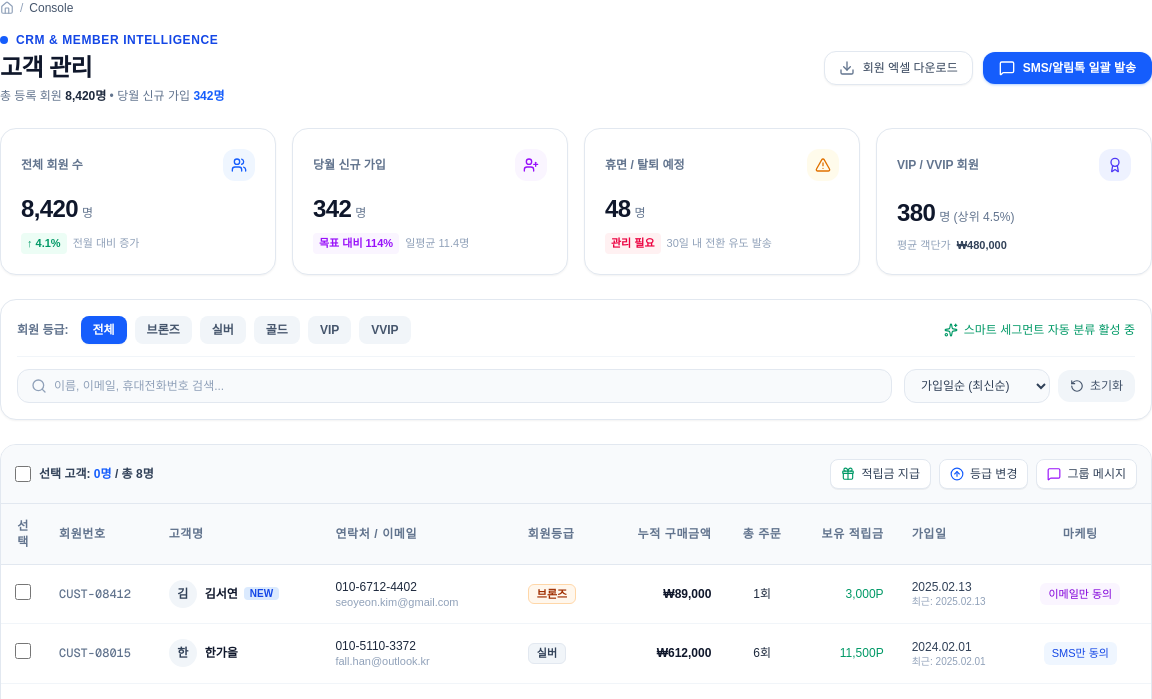
Scenario: CustomerView Presentation Component › should select/deselect all customers and handle batch actions
Toggle select all
Click the checkbox next to "선택 고객:": x=23, y=474 [15,466,31,482]
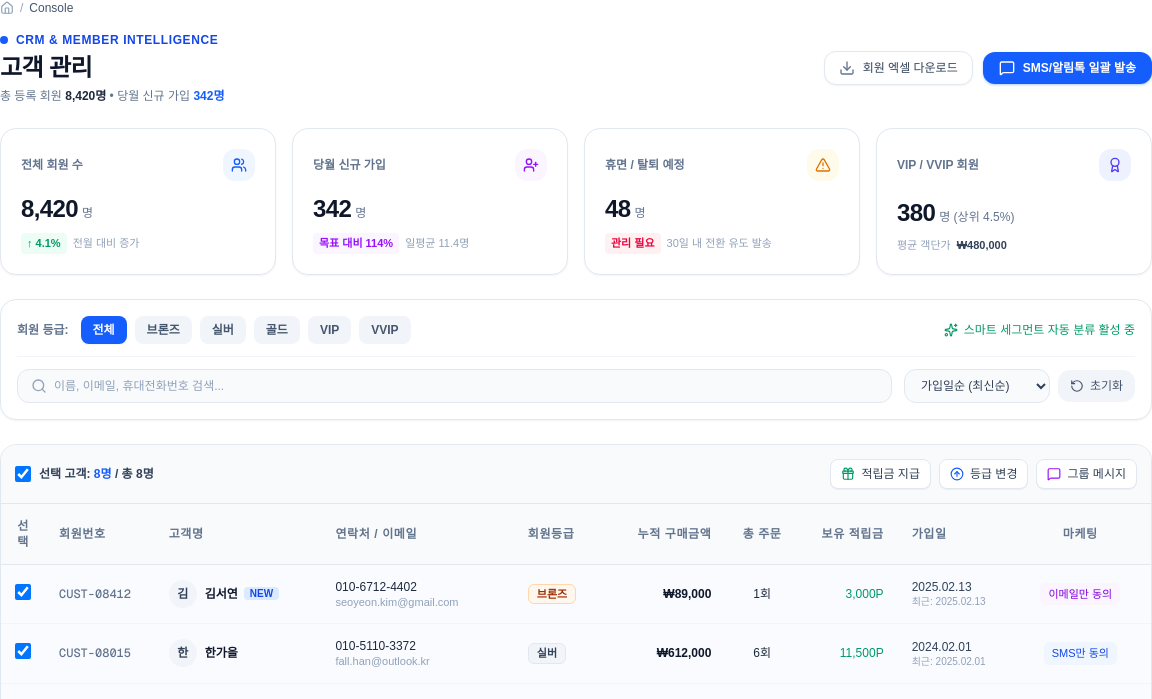
Expected: the element with test id "selected-count-label" shows "8명", [39,466,154,482]
Click batch action buttons
Click the button "적립금 지급": x=881, y=474 [830,458,931,488]
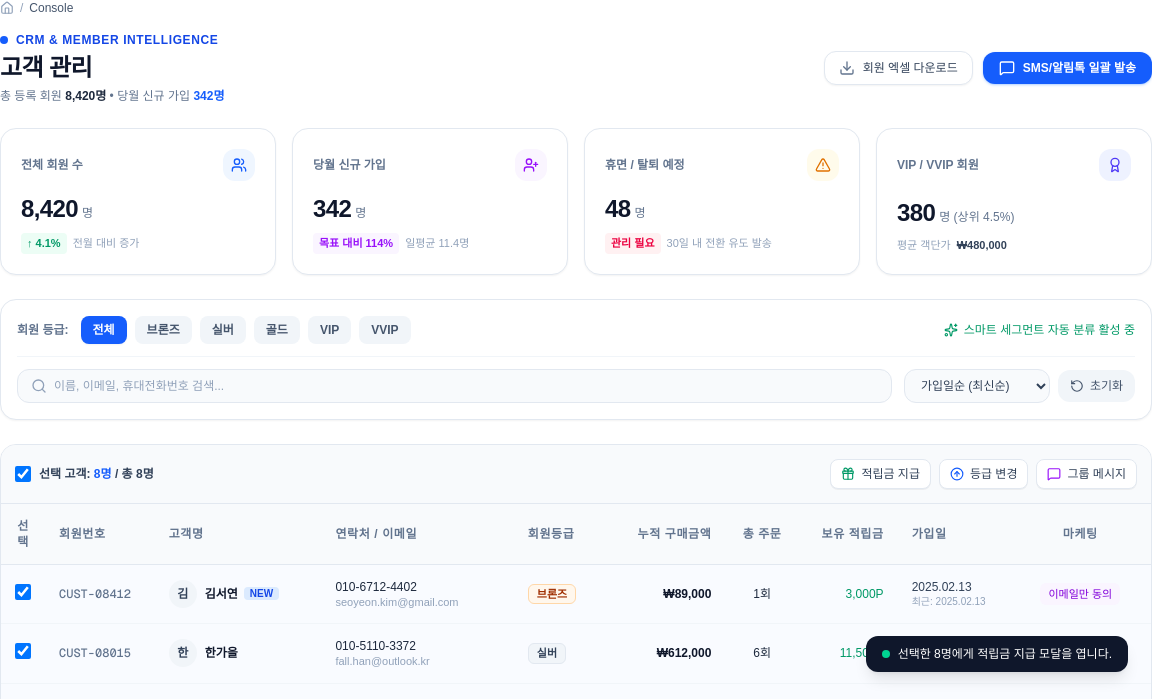
Expected: the text "선택한 8명에게 적립금 지급 모달을 엽니다." is shown, [898,646,1112,662]
Click the button "등급 변경": x=984, y=474 [939,458,1028,488]
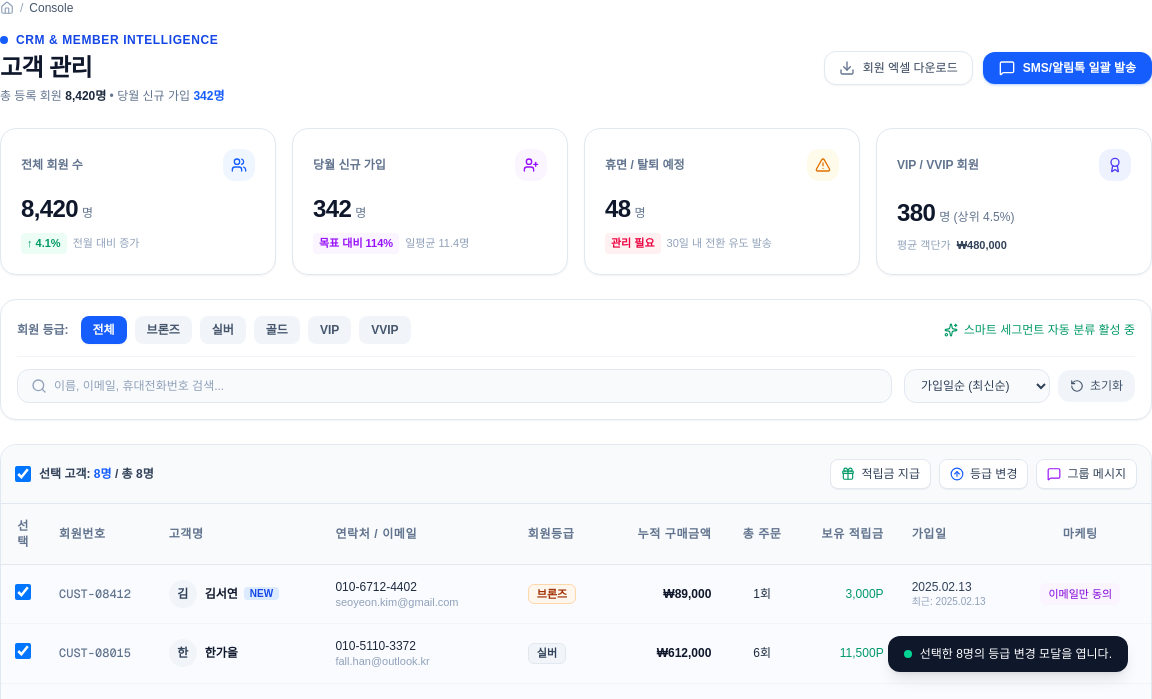
Expected: the text "선택한 8명의 등급 변경 모달을 엽니다." is shown, [920,646,1112,662]
Click the button "그룹 메시지": x=1087, y=474 [1036,458,1137,488]
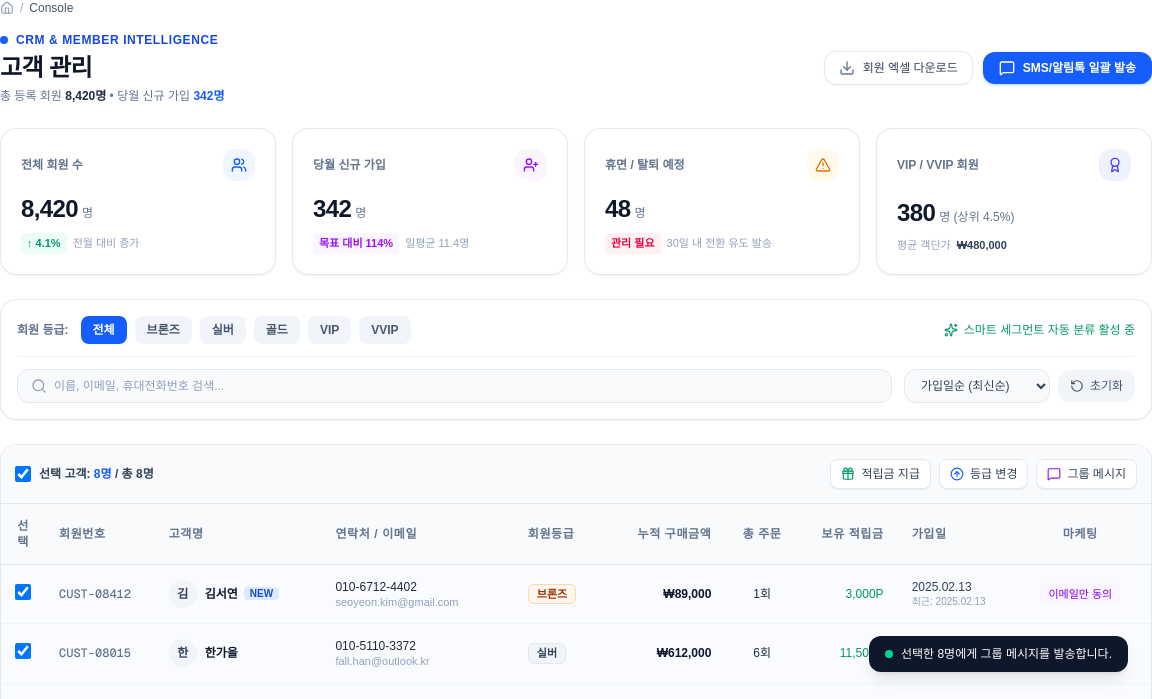
Expected: the text "선택한 8명에게 그룹 메시지를 발송합니다." is shown, [901,646,1112,662]
Click select all to deselect all (8 to 0)
Click the checkbox next to "선택 고객:": x=23, y=474 [15,466,31,482]
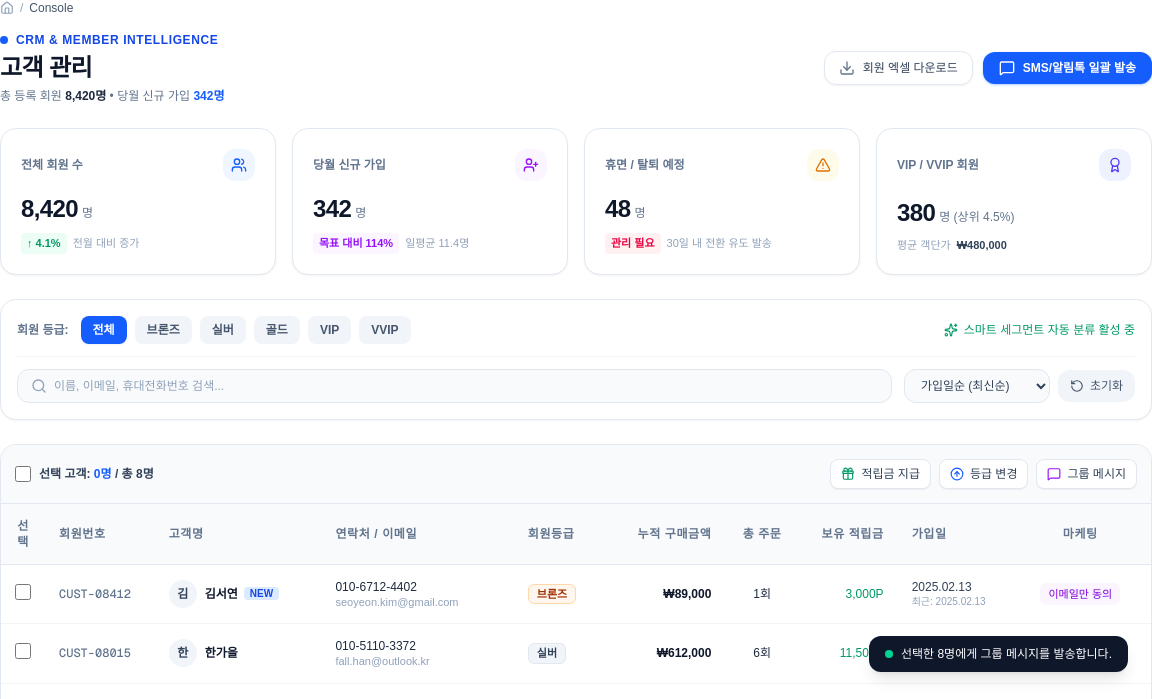
Expected: the element with test id "selected-count-label" shows "0명", [39,466,154,482]
Click the button "적립금 지급": x=881, y=474 [830,458,931,488]
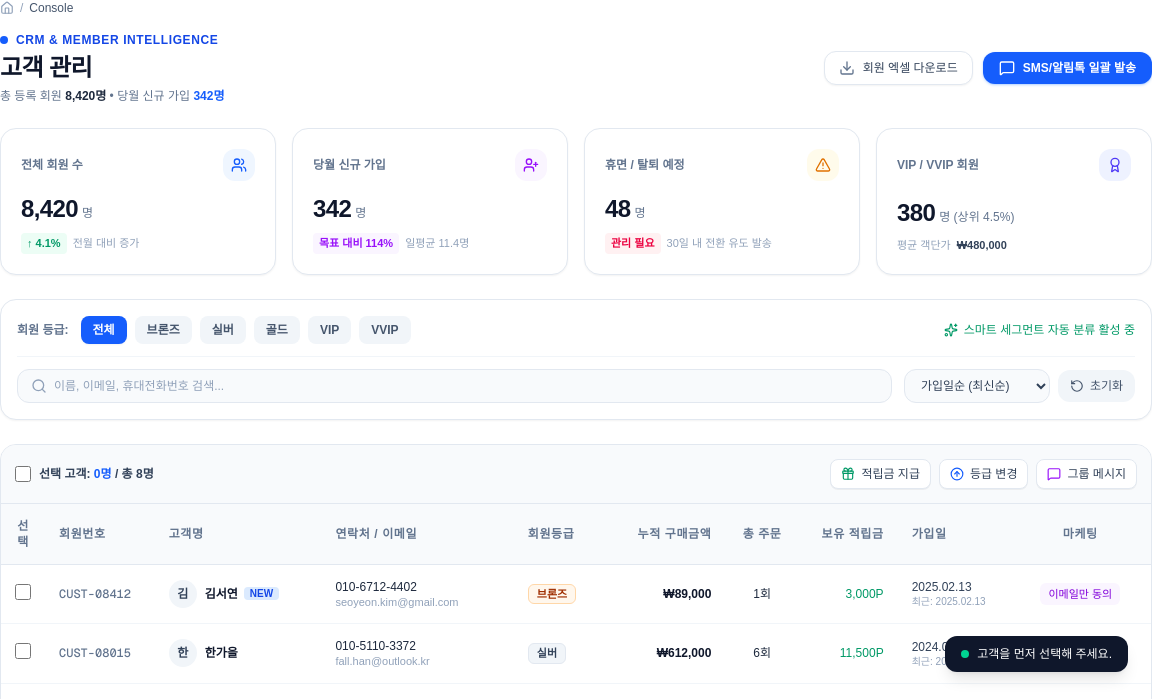
Expected: the text "고객을 먼저 선택해 주세요." is shown, [977,646,1112,662]
